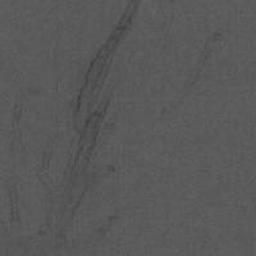Water spot: (73, 0, 140, 175), (169, 32, 222, 109), (71, 176, 89, 219), (7, 177, 20, 222), (38, 159, 55, 192), (13, 104, 22, 129), (108, 215, 119, 222), (106, 165, 115, 172), (38, 230, 46, 235)
